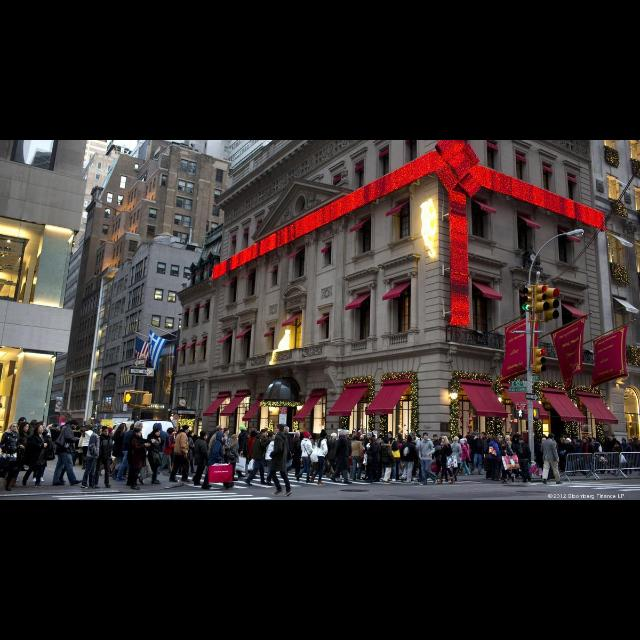head: (95, 424, 104, 436), (274, 424, 284, 434), (22, 423, 31, 433), (134, 422, 144, 431), (217, 433, 226, 443), (70, 421, 78, 432), (10, 422, 18, 432), (37, 425, 45, 435), (154, 428, 162, 438), (201, 432, 209, 442), (130, 423, 138, 432), (102, 427, 108, 438), (154, 424, 162, 432), (217, 426, 225, 434), (268, 432, 276, 440), (320, 432, 328, 440), (383, 438, 391, 446), (168, 428, 175, 437), (344, 429, 351, 438), (136, 429, 142, 439), (118, 426, 125, 434), (183, 426, 190, 434), (40, 422, 46, 431), (120, 423, 126, 432), (262, 429, 268, 438), (80, 424, 86, 432), (224, 428, 230, 436), (232, 436, 240, 442), (240, 426, 248, 432), (251, 430, 257, 438), (304, 434, 312, 440), (442, 436, 448, 444), (475, 432, 481, 440), (497, 436, 503, 444), (548, 434, 554, 442), (409, 434, 415, 441), (76, 427, 82, 433), (189, 432, 195, 438), (295, 432, 301, 438), (368, 438, 374, 444), (407, 436, 413, 442), (454, 437, 460, 443), (470, 431, 476, 437), (519, 438, 525, 444), (542, 438, 548, 444), (566, 439, 572, 445), (388, 432, 392, 440), (424, 434, 428, 441), (284, 427, 288, 433), (332, 434, 336, 440), (354, 436, 358, 442), (434, 435, 438, 441), (460, 440, 464, 446), (464, 439, 468, 445), (482, 432, 486, 438), (488, 439, 492, 445), (492, 438, 498, 442), (506, 435, 510, 441), (584, 438, 588, 444), (592, 438, 596, 444), (623, 438, 627, 444)
person: (51, 418, 84, 488), (201, 425, 235, 489), (200, 431, 236, 491), (2, 421, 32, 491), (22, 424, 52, 491), (244, 428, 276, 488), (269, 424, 293, 498), (80, 423, 104, 491), (32, 422, 58, 484), (128, 426, 152, 492), (114, 423, 140, 483), (1, 422, 22, 492), (56, 420, 78, 486), (168, 424, 192, 484), (125, 420, 146, 488), (330, 428, 354, 486), (433, 434, 459, 486), (148, 422, 170, 482), (92, 426, 112, 490), (540, 434, 564, 486), (417, 432, 439, 488), (144, 426, 164, 486), (308, 429, 329, 486), (528, 438, 554, 484), (191, 430, 211, 488), (156, 426, 178, 476), (111, 422, 129, 482), (295, 431, 315, 485), (499, 440, 521, 486), (264, 432, 282, 488), (284, 430, 304, 480), (362, 437, 382, 485), (384, 431, 402, 484), (399, 435, 418, 485), (326, 432, 344, 484), (77, 425, 97, 471), (234, 424, 250, 480), (278, 426, 294, 480), (516, 436, 534, 484), (446, 436, 464, 482), (452, 438, 472, 478), (468, 432, 486, 476), (110, 423, 124, 479), (405, 433, 421, 481), (580, 437, 598, 478), (182, 430, 198, 476), (247, 428, 261, 480), (559, 438, 577, 478), (224, 433, 238, 482), (350, 434, 364, 482), (488, 436, 502, 482), (68, 425, 82, 467), (463, 430, 477, 472), (380, 438, 392, 484), (220, 428, 233, 470), (431, 434, 444, 476), (620, 438, 634, 477), (589, 437, 603, 475), (502, 434, 514, 476), (460, 437, 472, 475), (484, 438, 494, 480), (479, 432, 489, 470)
